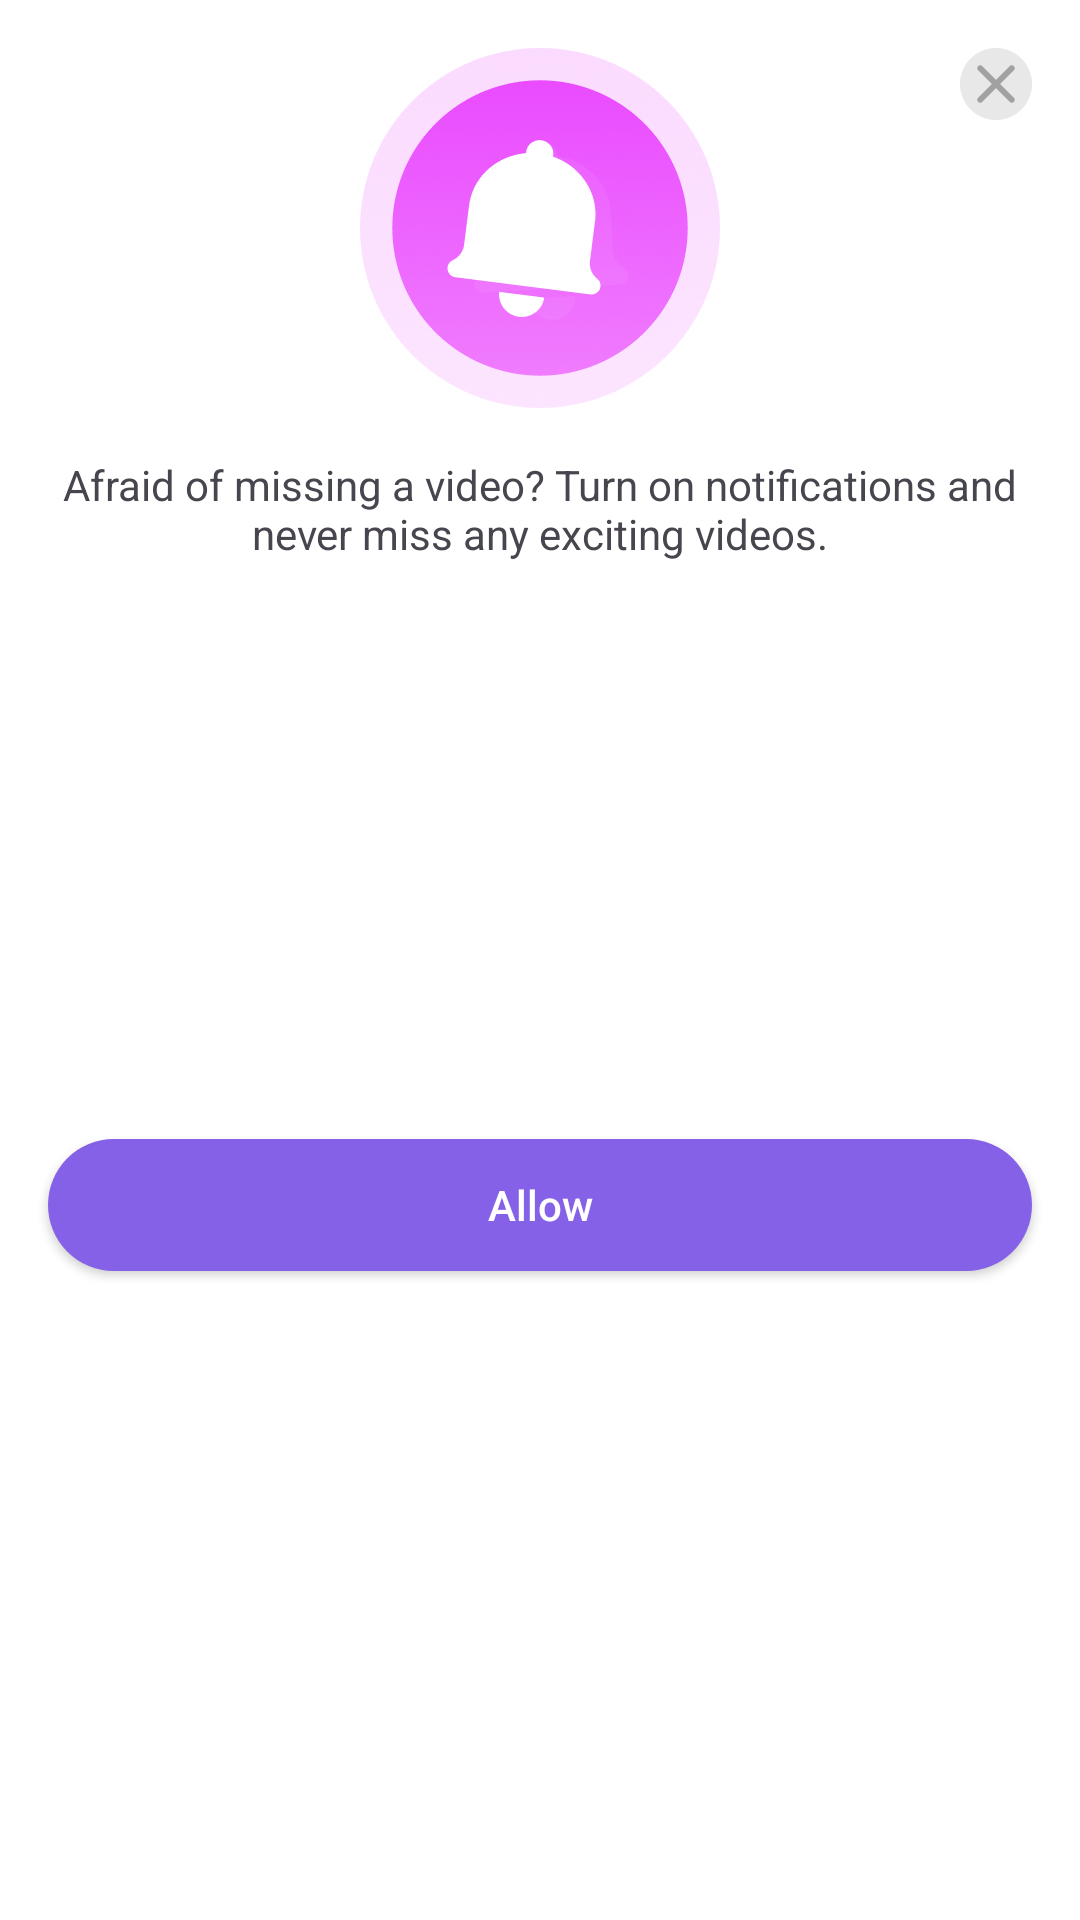

Where icons sit on this 1080px×1920px app screen, as rect(x1, y1, x2, y2):
alert: rect(360, 48, 720, 408)
close circle: rect(960, 48, 1032, 120)
